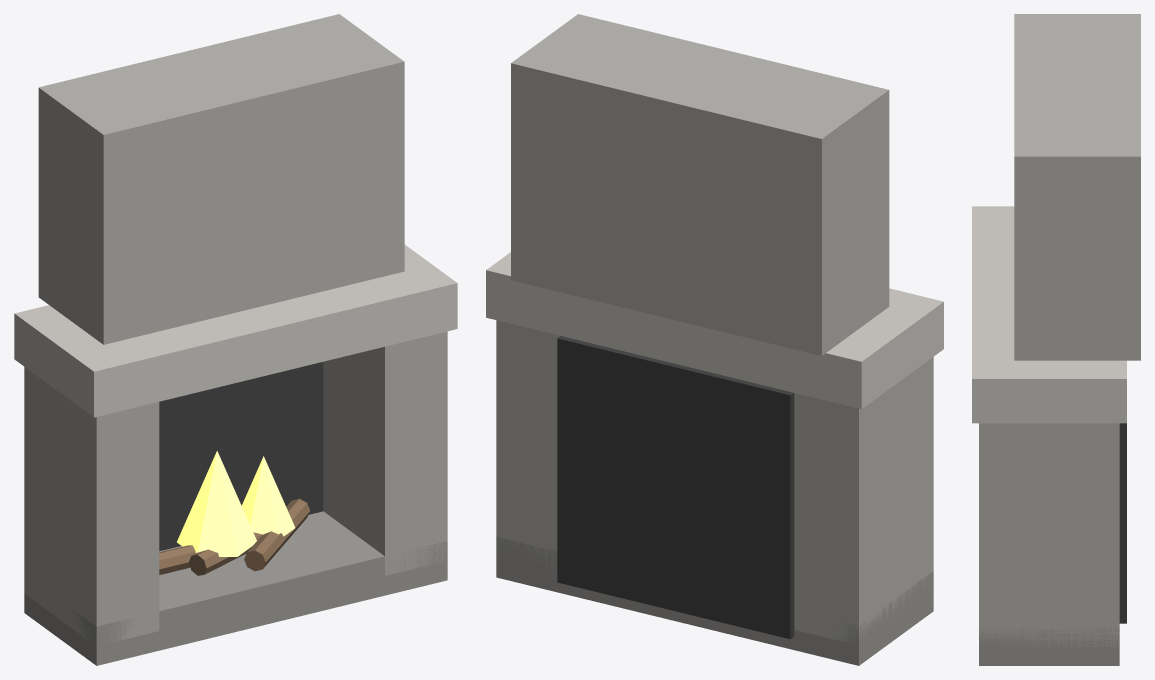
Rendered from hearth.glb.
The picture shows the model from 3 angles, left to right: view 1: azimuth 30°, elevation 25°; view 2: azimuth 150°, elevation 25°; view 3: azimuth 270°, elevation 25°; orthographic projection. The views are drawn at different scales.
Visible parts, largest first — view 1: hearth; view 2: hearth; view 3: hearth.
Boxes of the visible parts, x1,y1,x2,y2 form: hearth: (14,14,457,665); hearth: (486,14,943,665); hearth: (972,14,1140,665).
Size of the model in its own units: 2.9 by 3.9 by 1.2.
